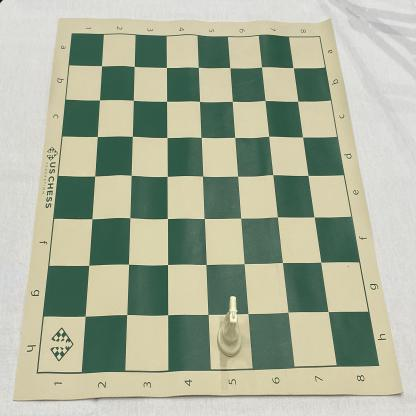white-knight: (217, 296, 243, 358)
